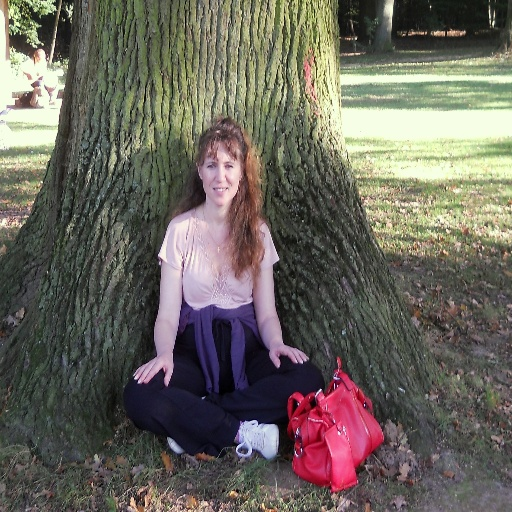hand: (132, 353, 174, 389), (268, 342, 311, 371)
